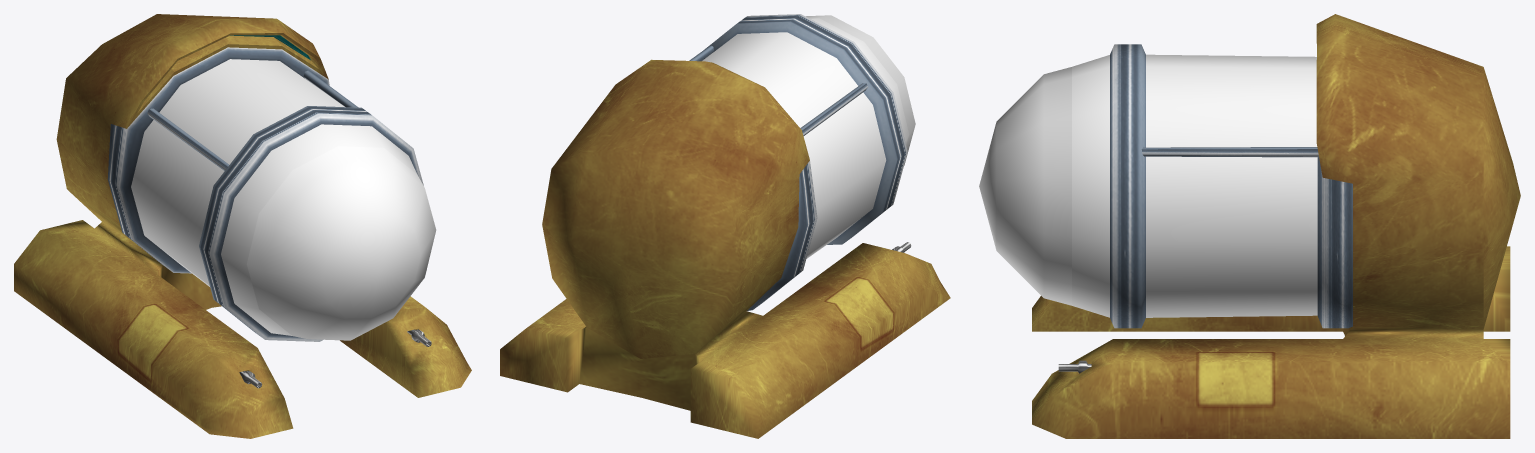
File: FirstSubmarine.fbx
3 renders of one model, left to right at view 1: azimuth 30°, elevation 25°; view 2: azimuth 150°, elevation 25°; view 3: azimuth 270°, elevation 25°, orthographic. The views are drawn at different scales.
Visible parts, largest first — view 1: pCylinder2; view 2: pCylinder2; view 3: pCylinder2.
Boxes of the visible parts, bbox=[...] form: pCylinder2: bbox=[14, 14, 471, 438]; pCylinder2: bbox=[500, 14, 950, 438]; pCylinder2: bbox=[979, 14, 1520, 438].
Size of the model in its own units: 19 by 20.45 by 29.93.
